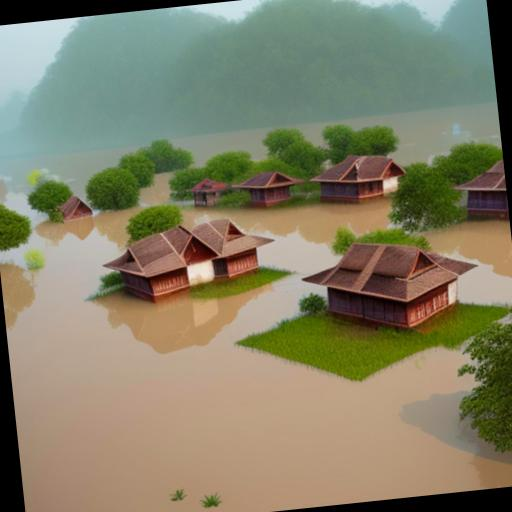flood: (0, 146, 512, 512), (284, 103, 502, 165), (426, 221, 512, 304), (172, 126, 272, 165), (140, 173, 171, 207)
house: (320, 227, 486, 342), (109, 210, 272, 306), (306, 151, 408, 207), (449, 158, 510, 230), (232, 165, 305, 208), (188, 174, 228, 208), (53, 190, 91, 224), (56, 192, 94, 224)
